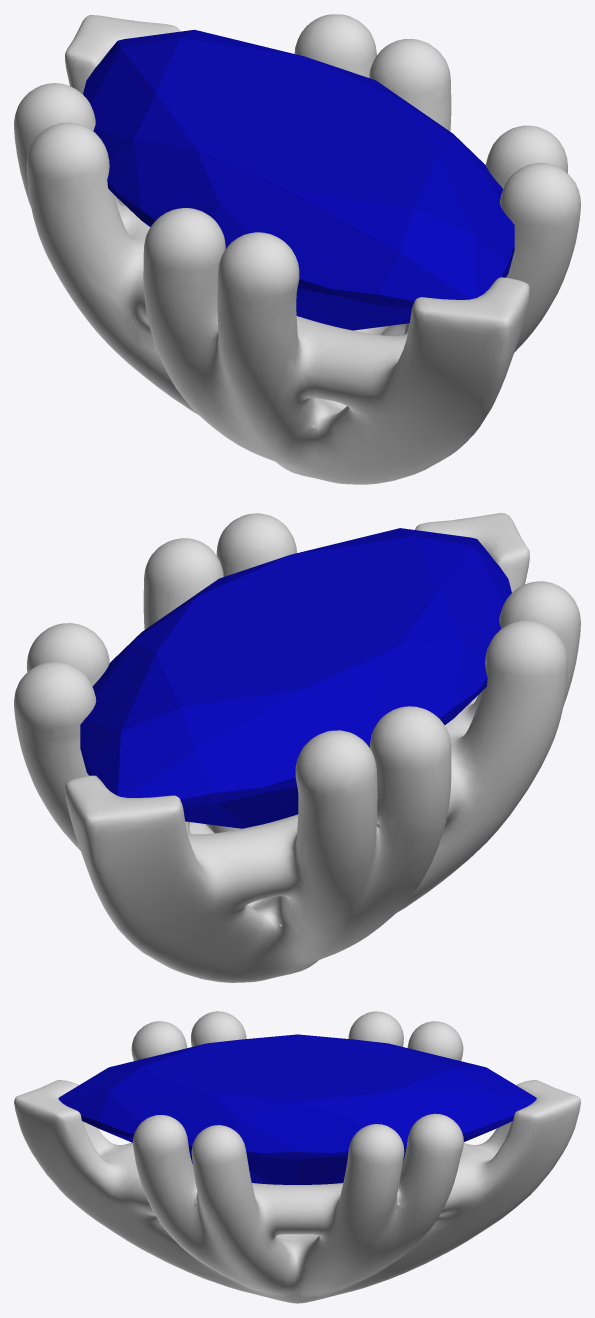
Rendered from Marquise.glb.
3 renders of one model, top to bottom at view 1: azimuth 30°, elevation 25°; view 2: azimuth 150°, elevation 25°; view 3: azimuth 270°, elevation 25°, orthographic. The views are drawn at different scales.
Visible parts, largest first — view 1: /GSMOD388300- DOUBLE PRONG_MARQUISE_IJ.3dm, Diamond_Marquise; view 2: /GSMOD388300- DOUBLE PRONG_MARQUISE_IJ.3dm, Diamond_Marquise; view 3: /GSMOD388300- DOUBLE PRONG_MARQUISE_IJ.3dm, Diamond_Marquise.
Part boxes in pixels (bbox=[...]): /GSMOD388300- DOUBLE PRONG_MARQUISE_IJ.3dm: bbox=[14, 14, 580, 484]; Diamond_Marquise: bbox=[83, 29, 514, 330]; /GSMOD388300- DOUBLE PRONG_MARQUISE_IJ.3dm: bbox=[14, 513, 580, 982]; Diamond_Marquise: bbox=[80, 528, 511, 828]; /GSMOD388300- DOUBLE PRONG_MARQUISE_IJ.3dm: bbox=[14, 1011, 580, 1303]; Diamond_Marquise: bbox=[58, 1034, 536, 1184].
Size of the model in its own units: 7.96 by 6.38 by 13.97.
